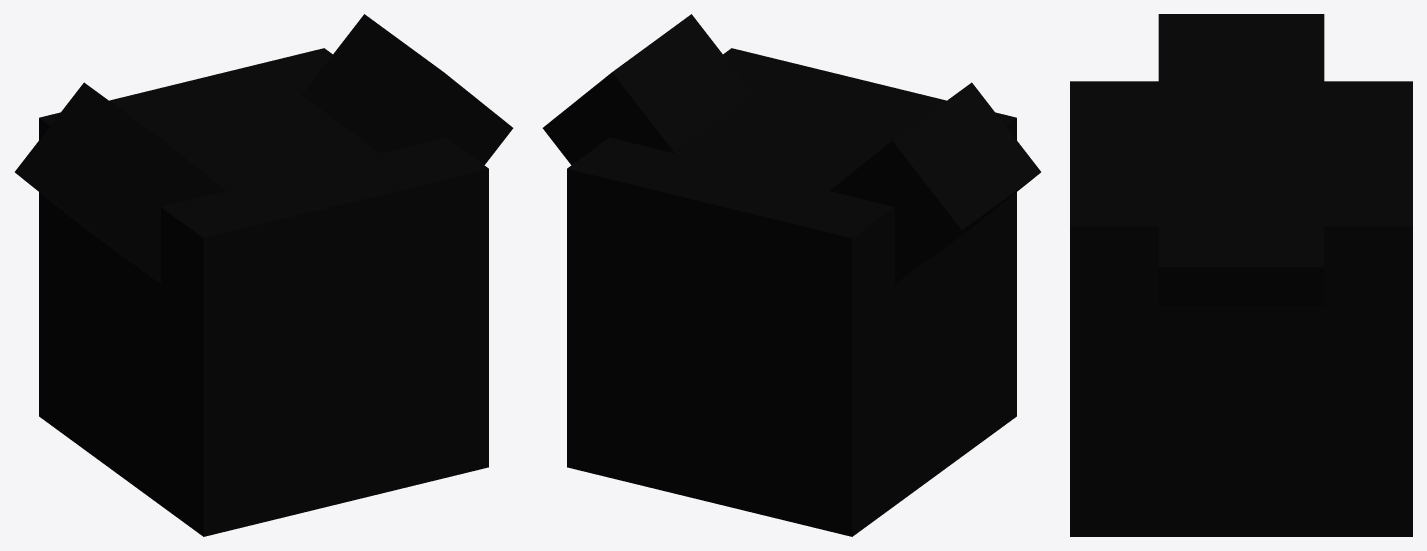
File: hair-0007.gltf
The picture shows the model from 3 angles, left to right: view 1: azimuth 30°, elevation 25°; view 2: azimuth 150°, elevation 25°; view 3: azimuth 270°, elevation 25°; orthographic projection. The views are drawn at different scales.
Parts seen in each view (by area): view 1: hair-0007-extra-geo (×3); view 2: hair-0007-extra-geo (×3); view 3: hair-0007-extra-geo (×3).
Part boxes in pixels (x1,y1,x2,y2): hair-0007-extra-geo (×3): [15, 14, 513, 536]; hair-0007-extra-geo (×3): [542, 14, 1040, 536]; hair-0007-extra-geo (×3): [1070, 14, 1412, 536].
Bounding box in the file's own units: 0.6661 × 0.5531 × 0.4531.
1 material, 1 textured.
